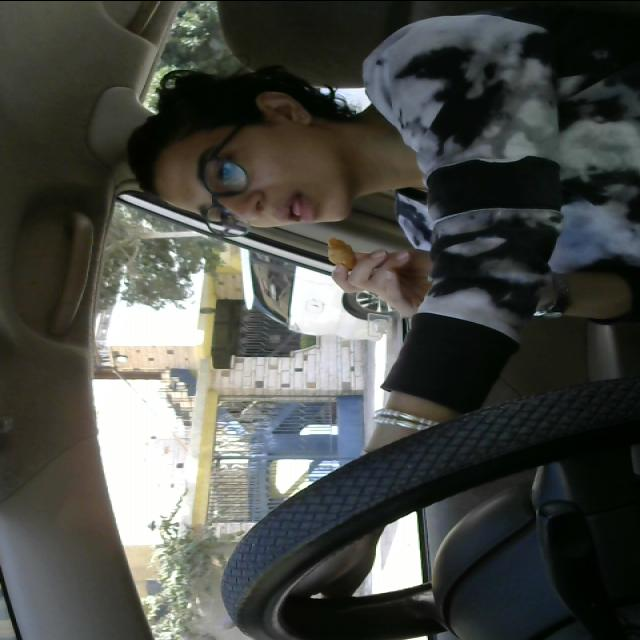eating: (328, 238, 363, 278)
